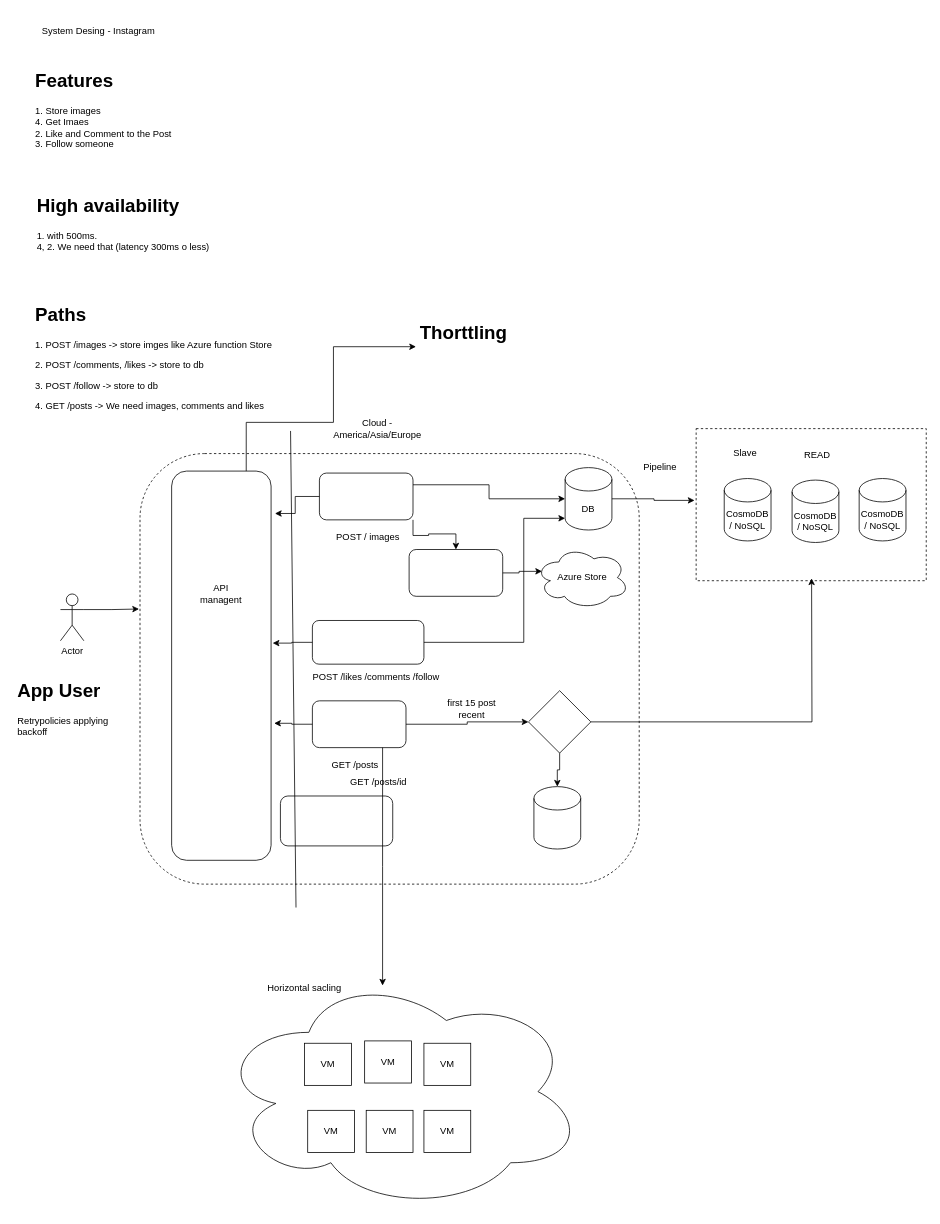
Image size: 940x1224. Some labels were removed from this diagram. The shapes that lost their labels are listed below. From the top down, each one's centre as x and y in pixels, then its label:
At point (366, 496): "Serverless / Azure function".
At point (455, 572): "Serverless - Store imges".
At point (368, 642): "Serverless".
At point (359, 724): "Microservice".
At point (336, 820): "MS - Authorization".
At point (557, 817): "Redis cache".
